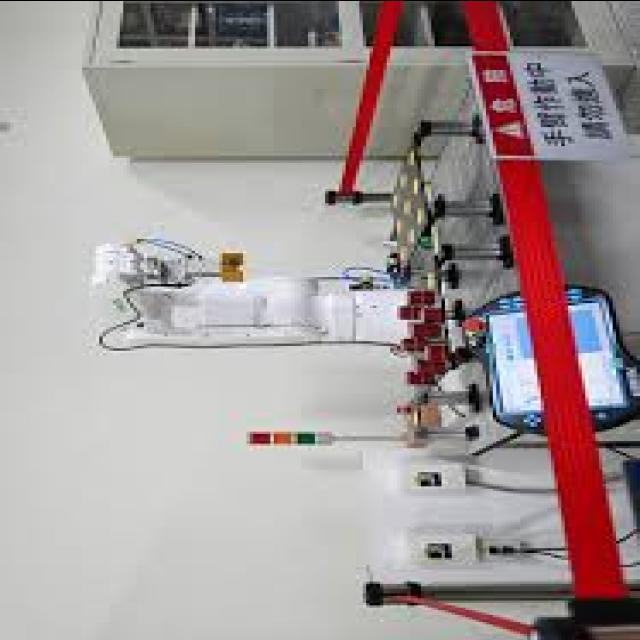Robotic-arm: (78, 235, 412, 358)
